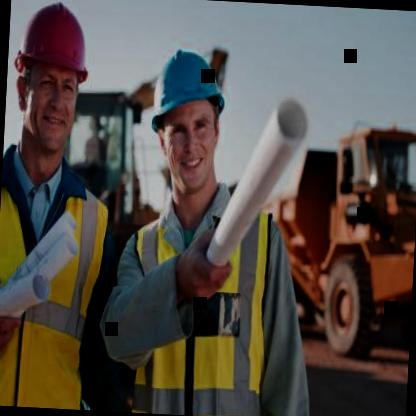helmet: (132, 32, 240, 213), (4, 0, 106, 175)
